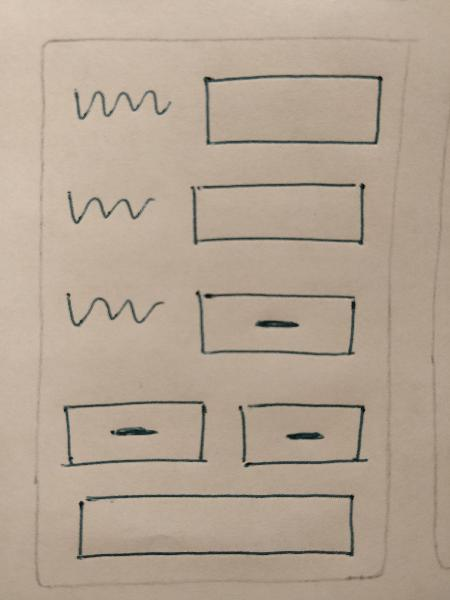button: (189, 281, 363, 363), (57, 395, 211, 471), (230, 395, 374, 472)
text: (59, 77, 182, 136), (51, 177, 174, 236), (52, 281, 175, 340)
text_input: (66, 486, 364, 567), (196, 66, 385, 153), (185, 169, 374, 256)
